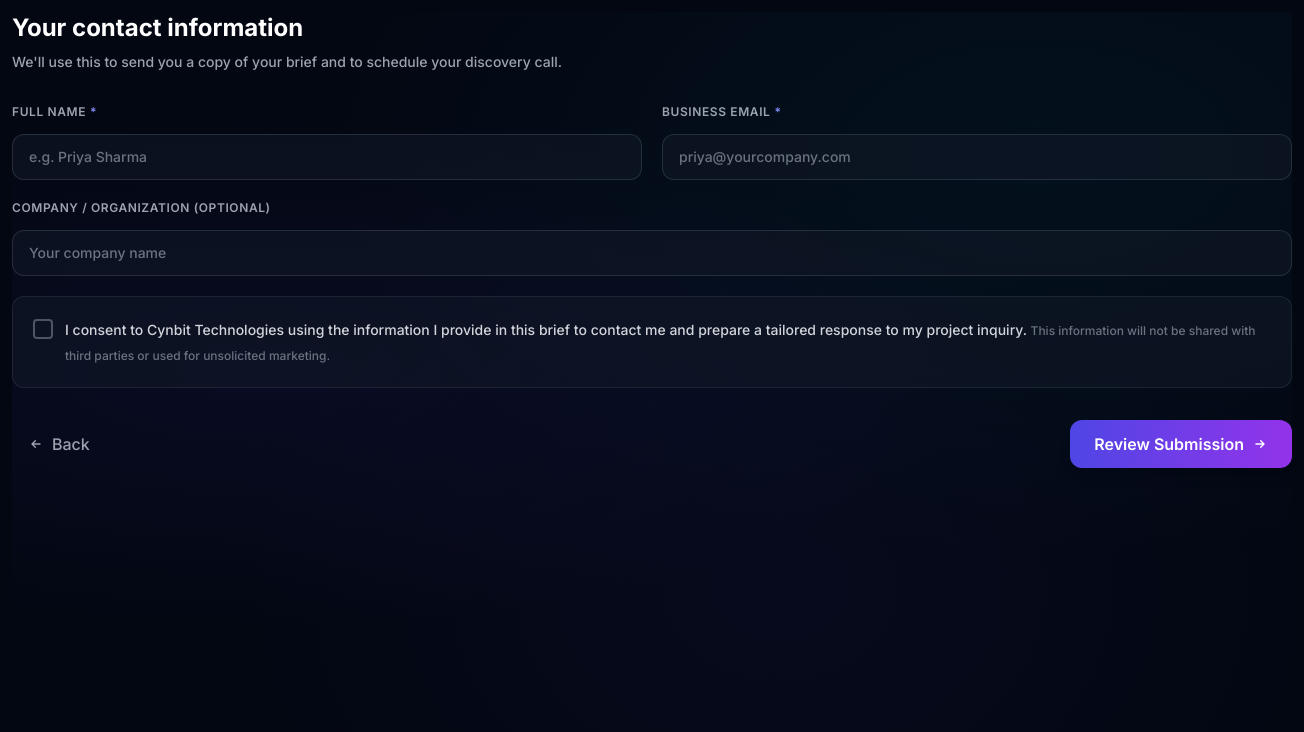
Test case: Step4Contact › validates required fields
Step 1. Click the button "Review Submission" → (1181, 444), box [1070,420,1292,468]
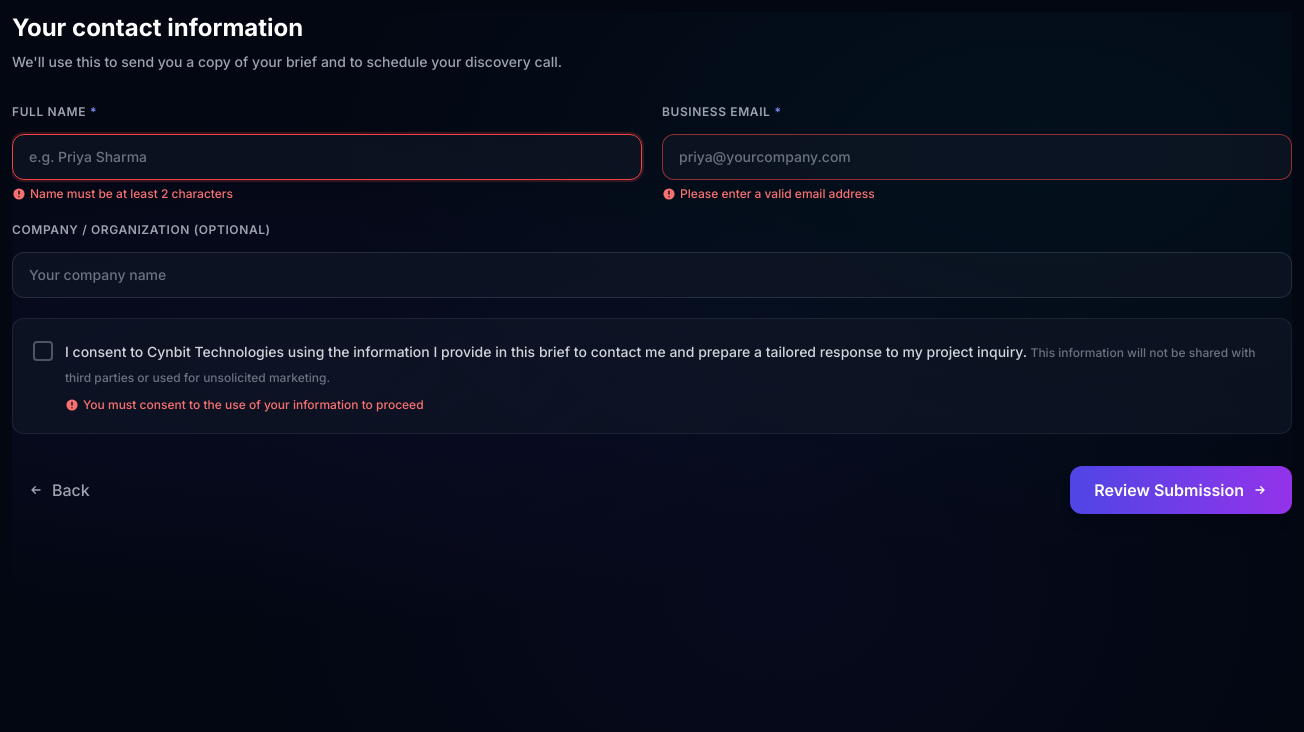
expect the message "Name must be at least 2 characters" is shown: met, box [12,186,233,201]
